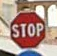stop: (8, 9, 46, 47)
